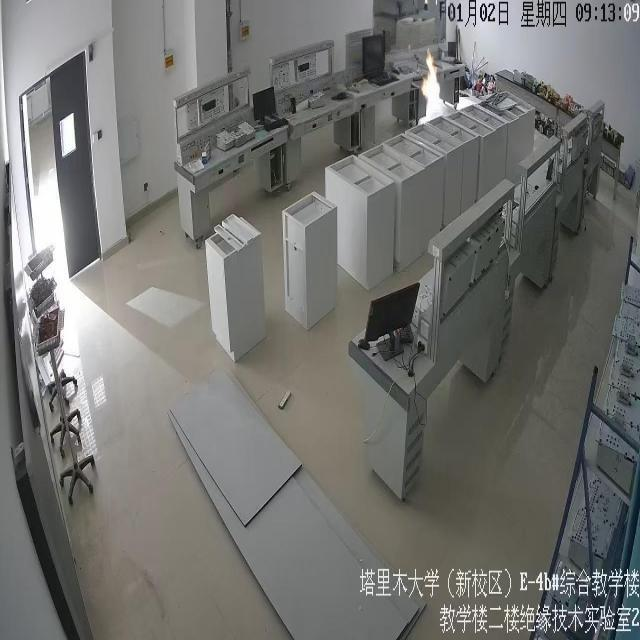smoke: (420, 48, 446, 118)
